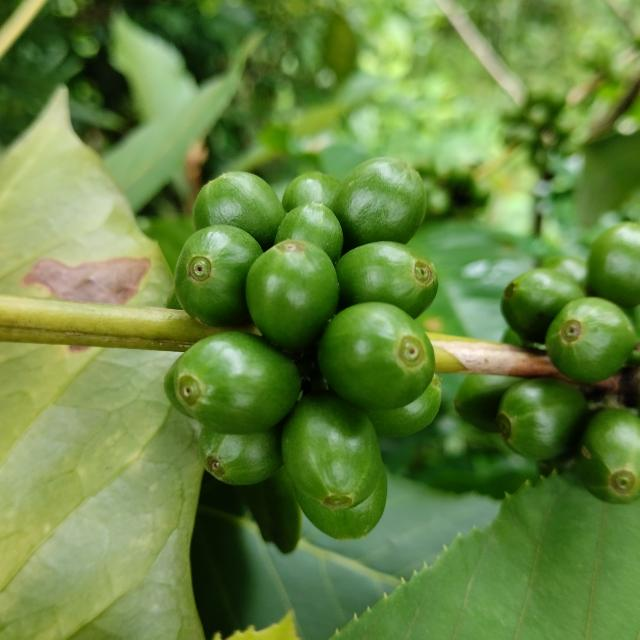green: (173, 332, 301, 435), (318, 302, 436, 410), (282, 392, 383, 510), (246, 239, 339, 351), (330, 156, 427, 251), (174, 224, 263, 326), (336, 241, 439, 318), (546, 297, 637, 383), (498, 379, 588, 461), (193, 171, 286, 249), (295, 469, 388, 541), (502, 268, 586, 343), (578, 409, 640, 504), (198, 427, 283, 486), (368, 375, 442, 437), (589, 222, 640, 308), (275, 202, 344, 263), (282, 171, 340, 211)
